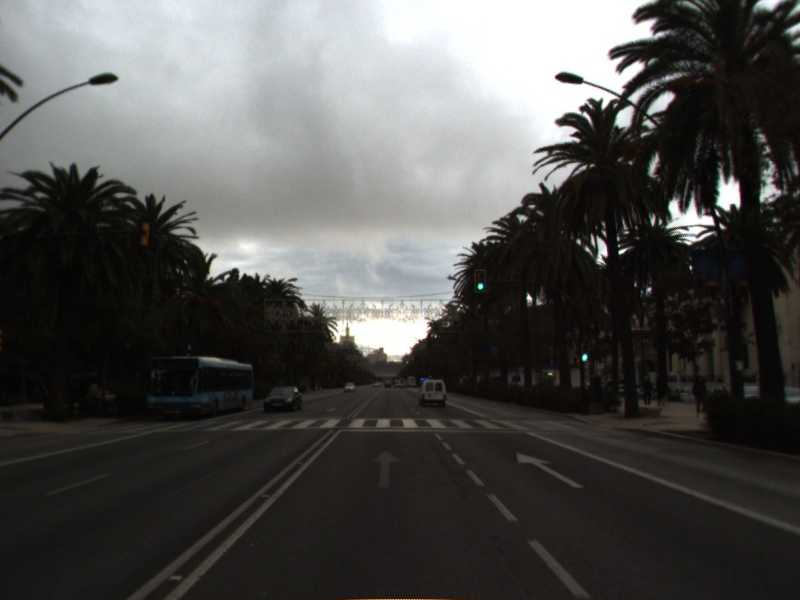STRAIGHT: (514, 450, 587, 490), (368, 449, 405, 489)
